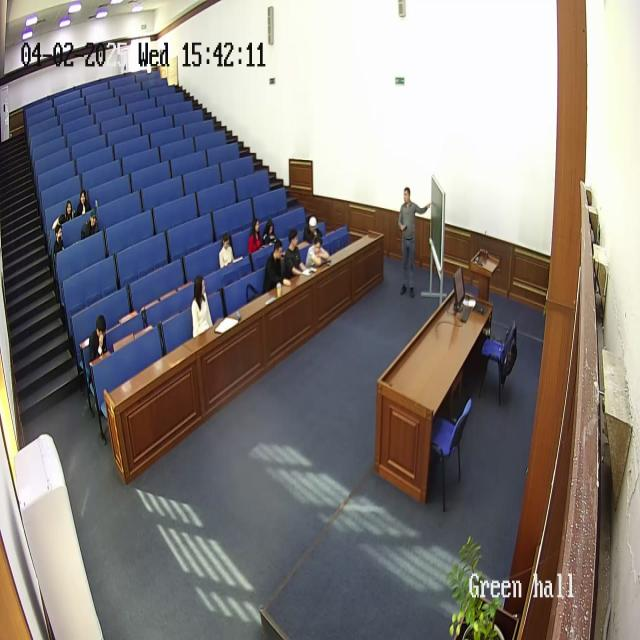person: (398, 186, 432, 295), (190, 274, 214, 338), (262, 239, 290, 293), (283, 228, 309, 280), (88, 316, 108, 364), (306, 232, 330, 268), (247, 218, 265, 258), (302, 215, 324, 246), (54, 199, 75, 229), (218, 232, 235, 268), (52, 224, 66, 259), (82, 209, 98, 239), (75, 188, 91, 218), (261, 219, 277, 248)
